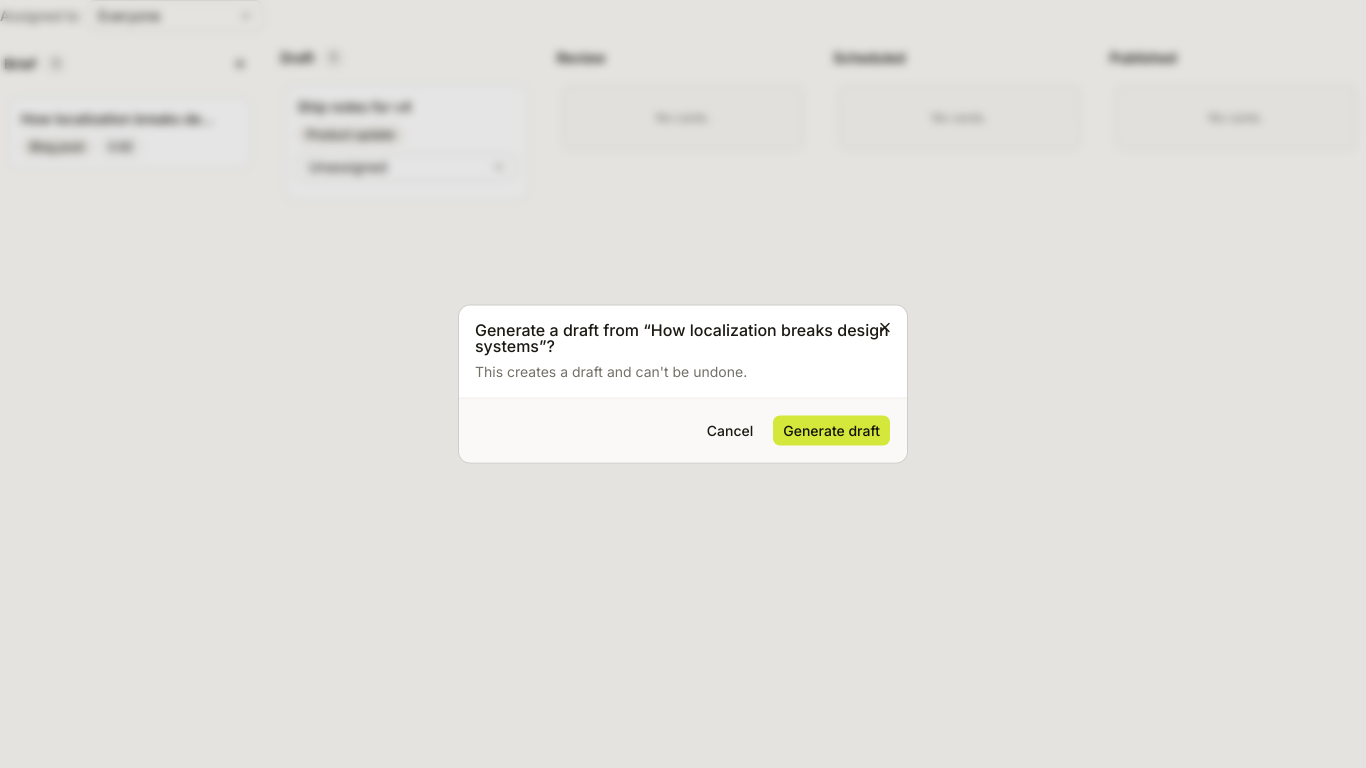
it: accepting a brief › opens the generation modal on the piece acceptance created
Expected: the dialog is shown, x1=459 y1=306 x2=907 y2=462
Click the button "Generate draft" at point(832, 430), box x1=772 y1=414 x2=891 y2=446
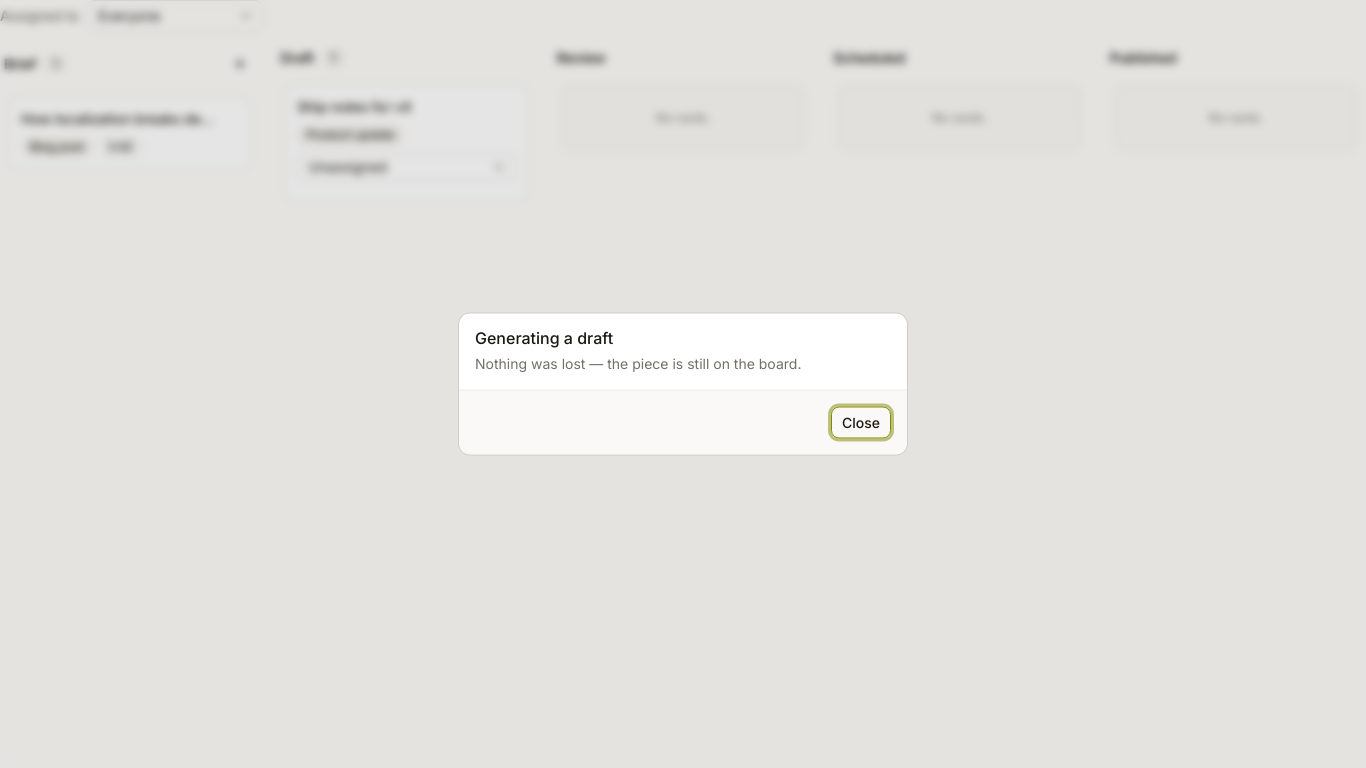
Result: the heading "Generating a draft" is shown at x1=475 y1=328 x2=613 y2=348
Result: the text "can.t be undone" is gone
